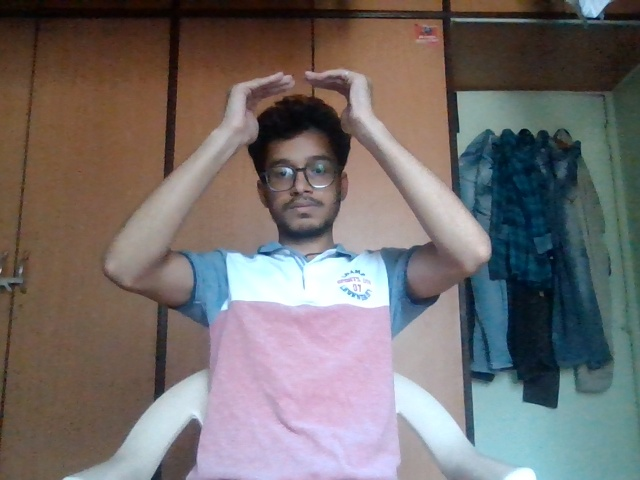afternoon: (187, 56, 423, 187)
